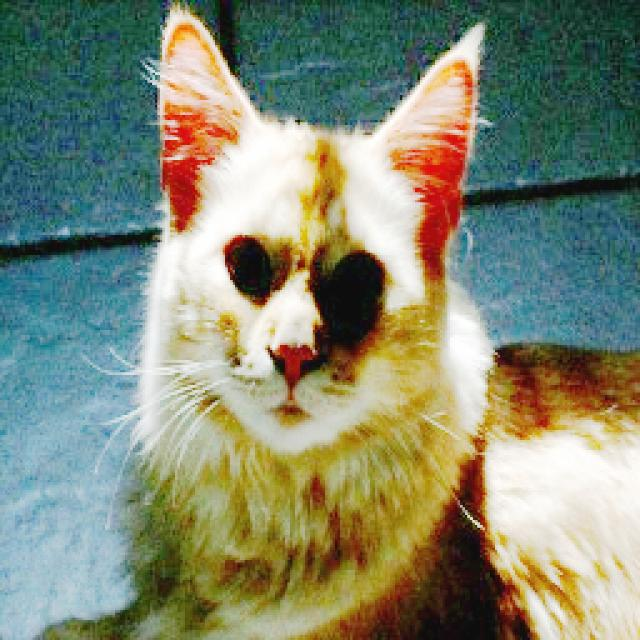cat: (107, 5, 640, 640)
